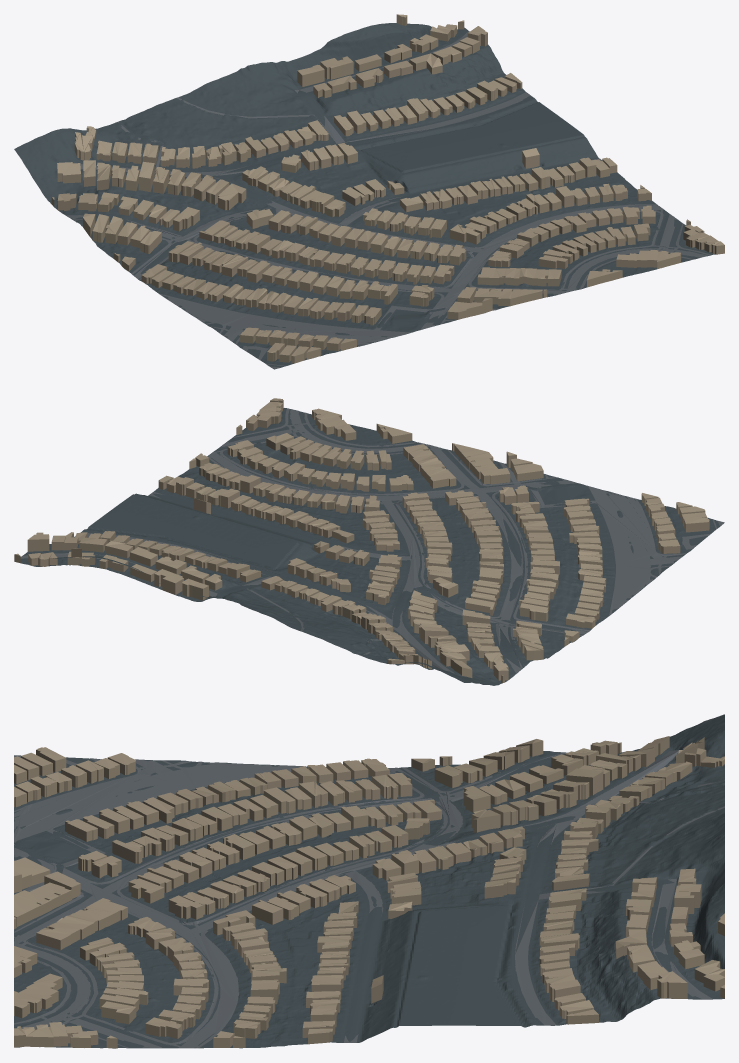
Rendered from epsg26910-1427-10878.lod0.glb.
3 views of the same model, one above another, from view 1: azimuth 30°, elevation 25°; view 2: azimuth 150°, elevation 25°; view 3: azimuth 270°, elevation 25° (orthographic). The views are drawn at different scales.
Visible parts, largest first — view 1: epsg26910-1427-10878-lod0; view 2: epsg26910-1427-10878-lod0; view 3: epsg26910-1427-10878-lod0.
Part boxes in pixels (box(x1,y1,x2,y2)): epsg26910-1427-10878-lod0: box(14, 14, 724, 369); epsg26910-1427-10878-lod0: box(14, 398, 724, 685); epsg26910-1427-10878-lod0: box(14, 714, 724, 1048).
Size of the model in its own units: 384 by 65.91 by 384.
